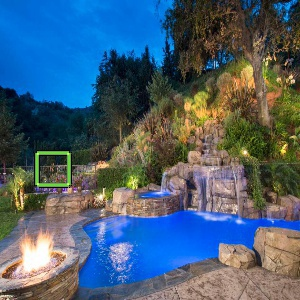square: (32, 148, 73, 189)
